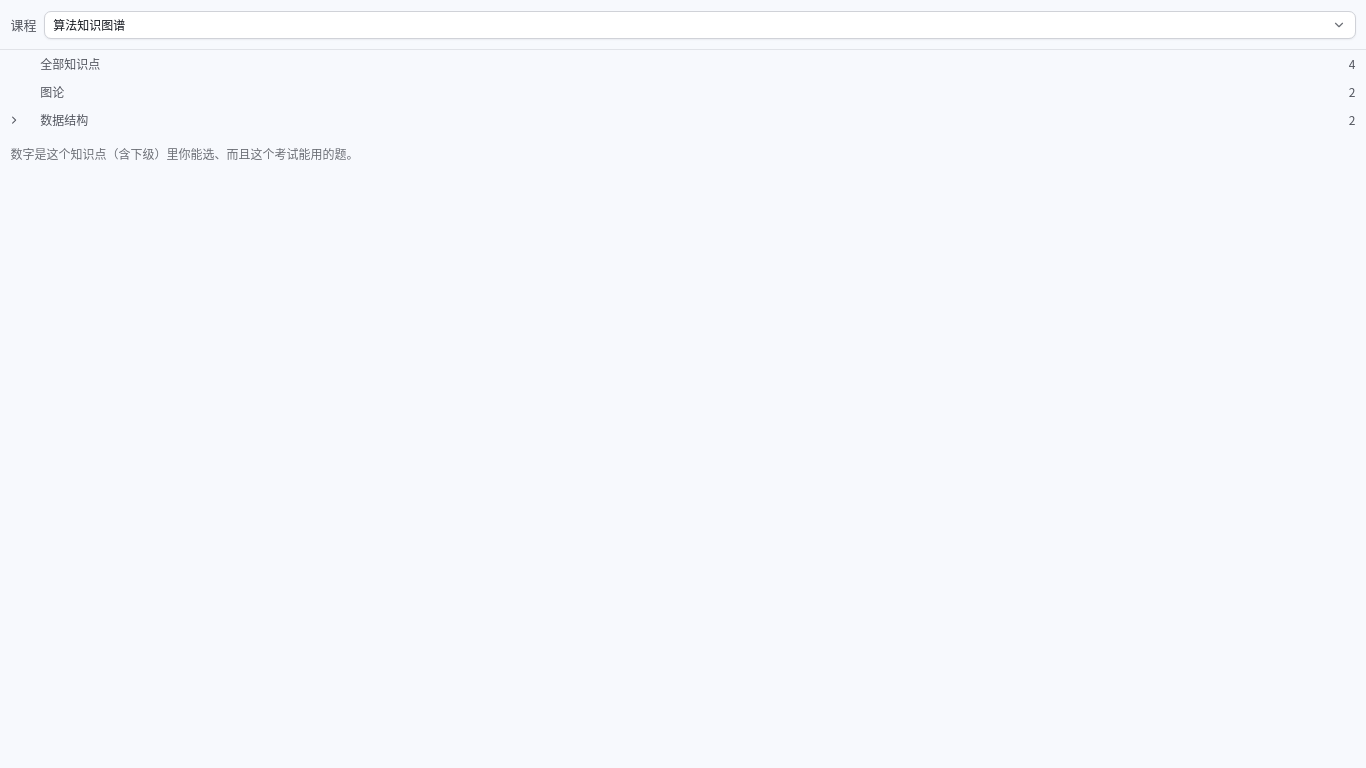
Scenario: compose bank pane › rolls the share switch back when the school bank request fails
This screenshot has width=1366, height=768.
What coordinates should you click on to do the following:
click the button "图论"
I would click on:
 (52, 92)
Its box is 32,78 -> 1345,106.
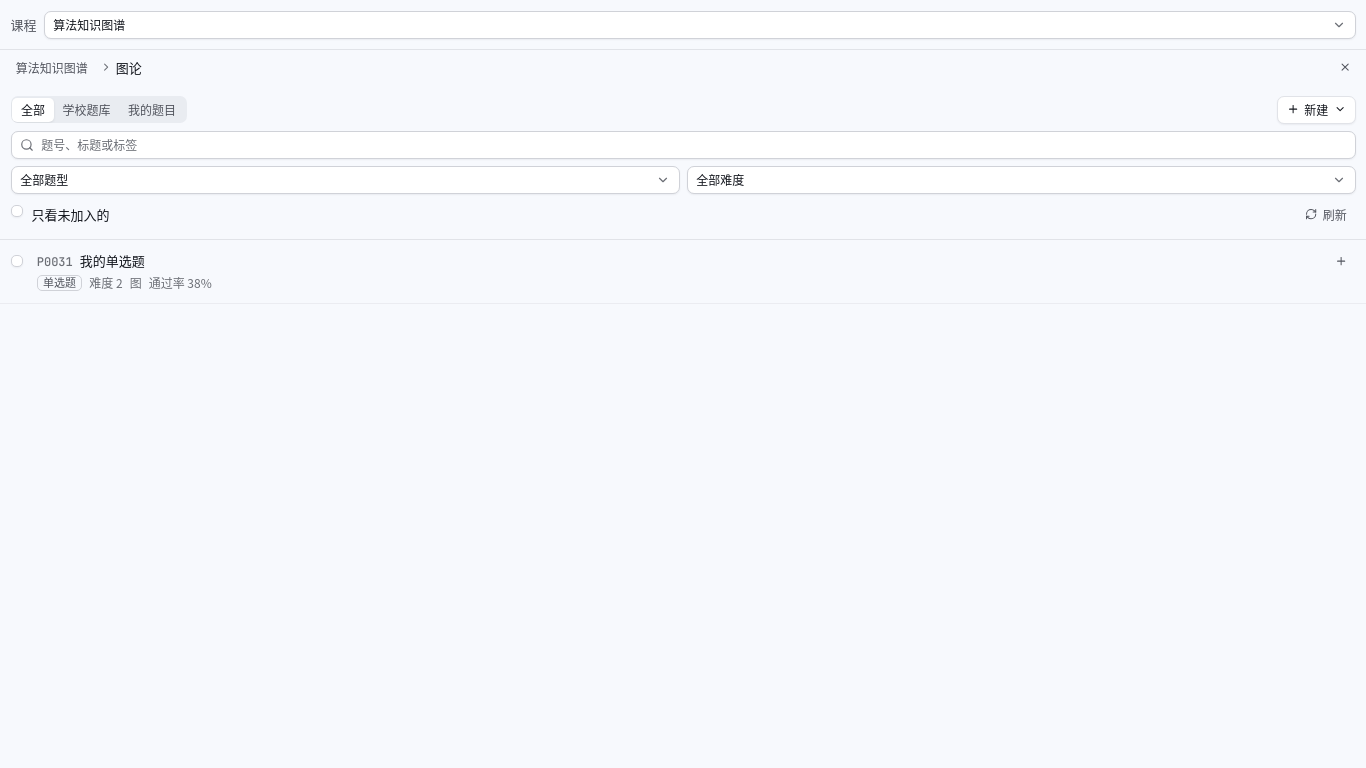
What coordinates should you click on to do the following:
click the button "P0031 我的单选题 单选题 难度 2 图 通过率 38%"
I would click on:
 (55, 262)
Its box is 30,247 -> 1321,296.
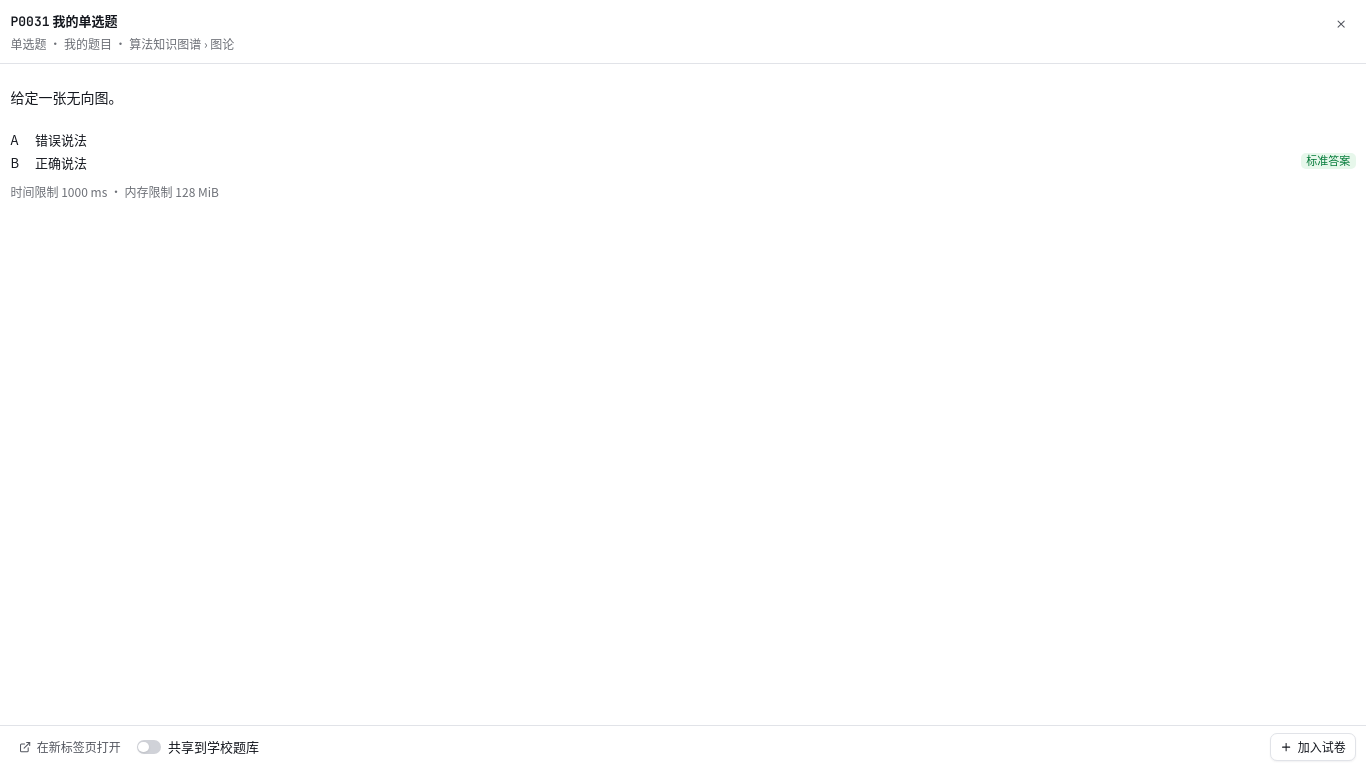
Check: the switch named "共享到学校题库" is not checked
What coordinates should you click on to do the following:
click the switch named "共享到学校题库"
I would click on:
 (149, 747)
Its box is 136,740 -> 161,754.
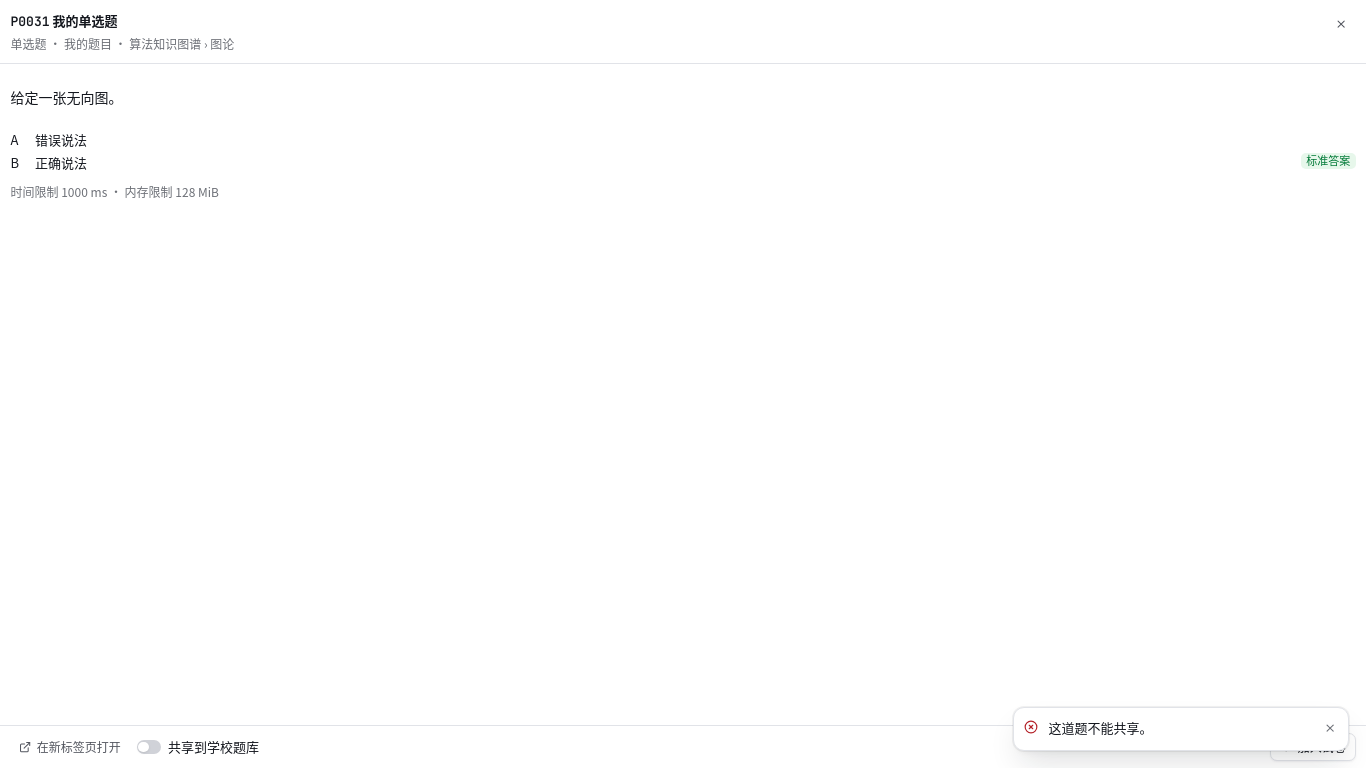
Check: the switch named "共享到学校题库" is not checked, box 136,740 -> 161,754
Check: the text "这道题不能共享。" is shown, box 1048,718 -> 1152,737
